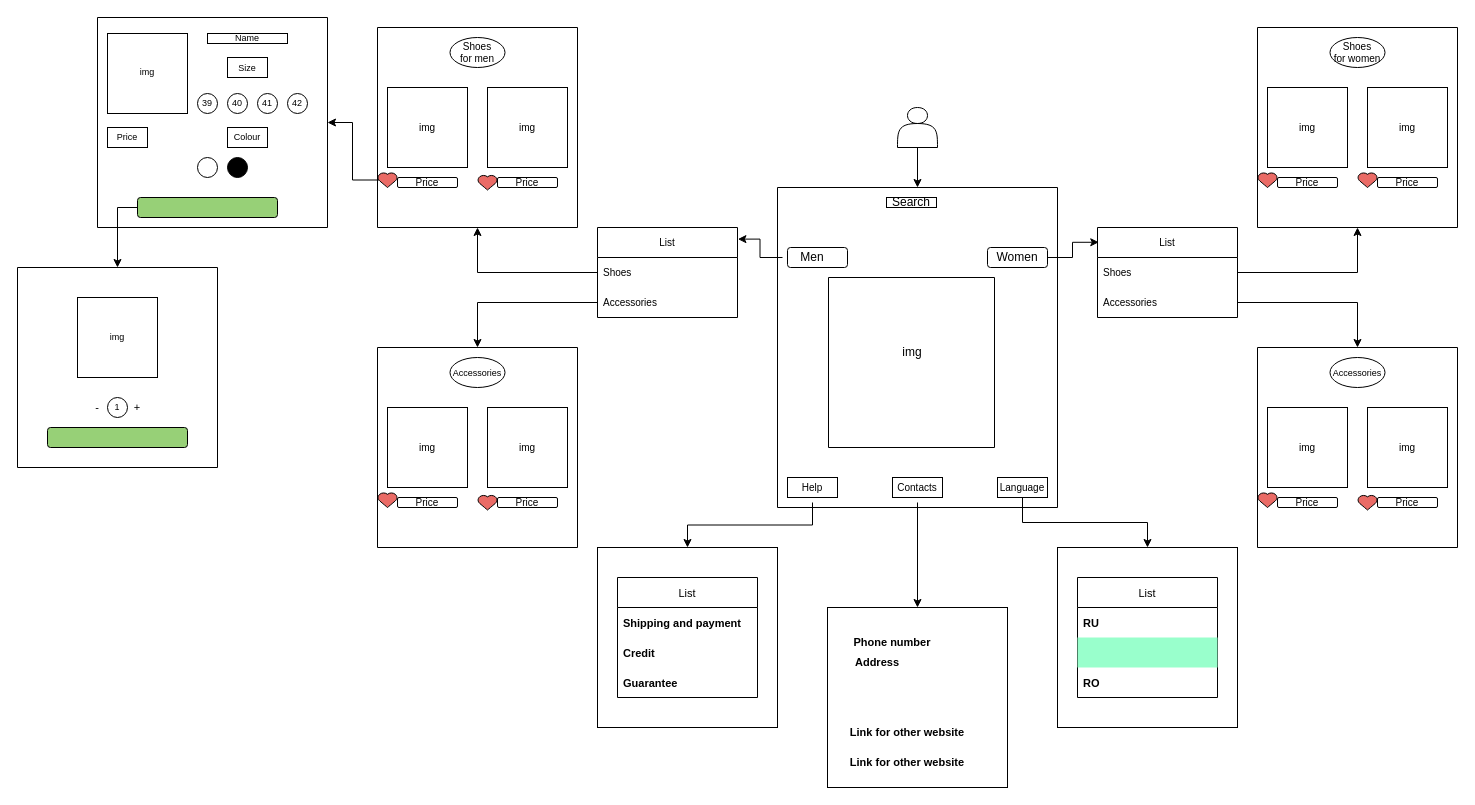
This 1475x805 diagram has some shape labels left out. Each missing label, with the centre of its shape:
"Buy" belongs at (207,207).
"Checkout" belongs at (117,437).
"ENG" belongs at (1147,652).
